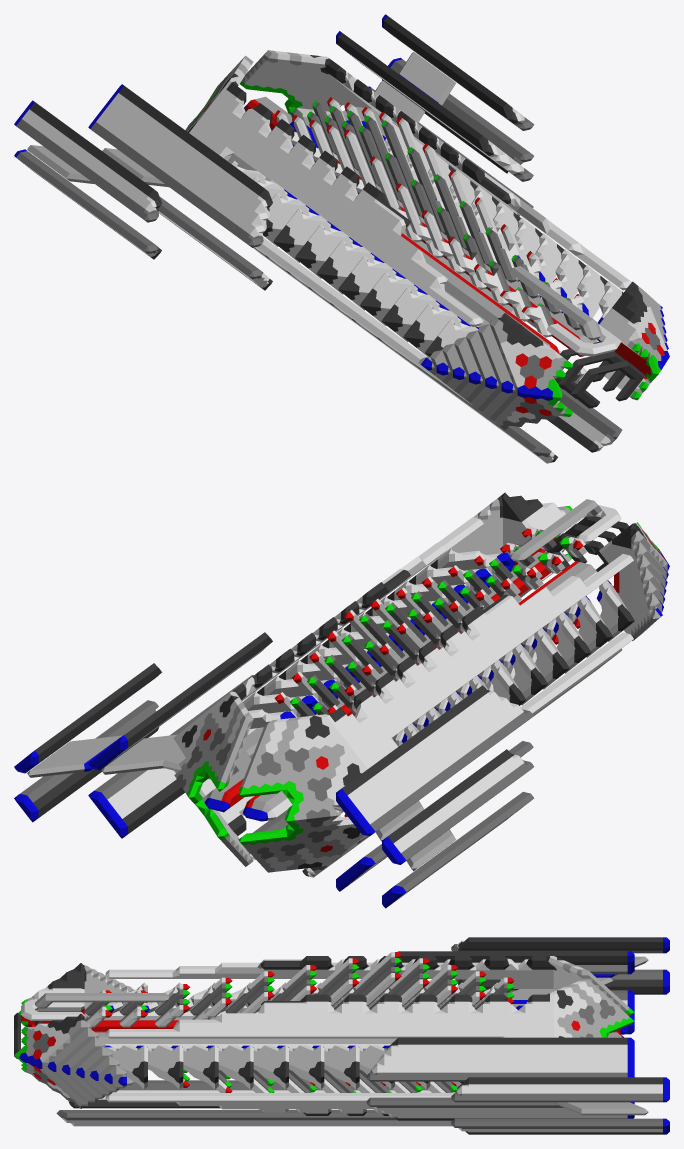
File: ship_auron_1.fbx
3 views of the same model, one above another, from view 1: azimuth 30°, elevation 25°; view 2: azimuth 150°, elevation 25°; view 3: azimuth 270°, elevation 25° (orthographic). The views are drawn at different scales.
Visible parts, largest first — view 1: ship_auron_1; view 2: ship_auron_1; view 3: ship_auron_1.
Part boxes in pixels (left/top/right/bottom): ship_auron_1: left=14, top=14, right=669, bottom=463; ship_auron_1: left=14, top=492, right=669, bottom=908; ship_auron_1: left=14, top=937, right=669, bottom=1134.
Size of the model in its own units: 5200 by 2400 by 9300.
